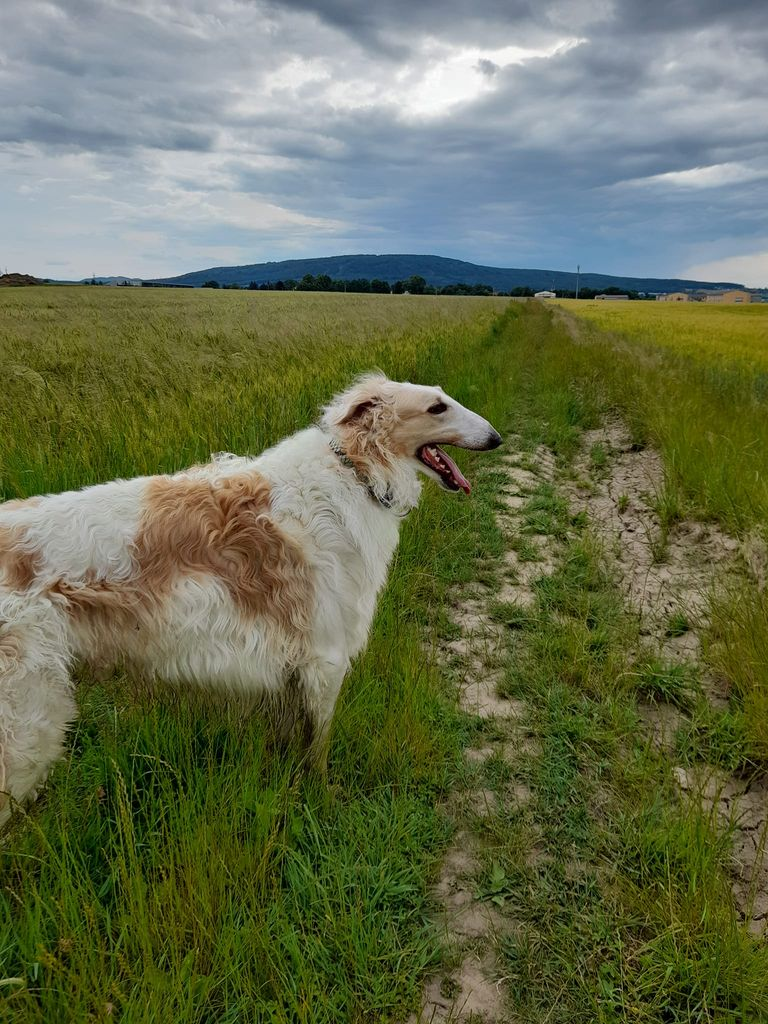borzoi: (0, 370, 519, 853)
